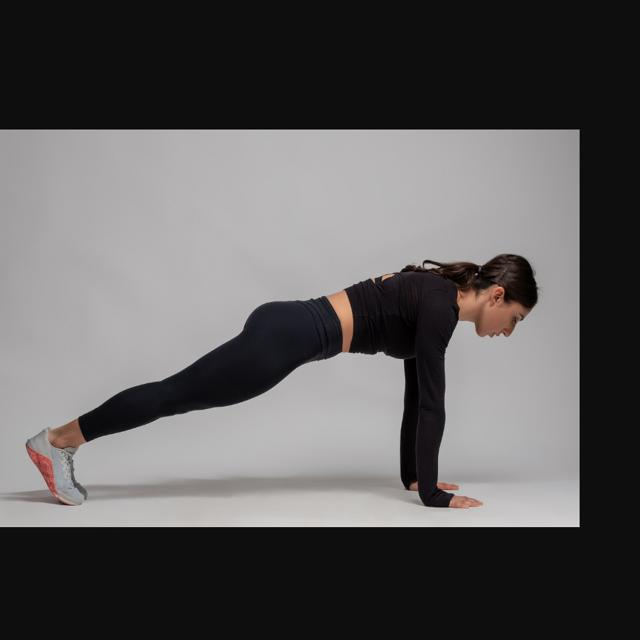Plank_Pose: (16, 240, 551, 517)
